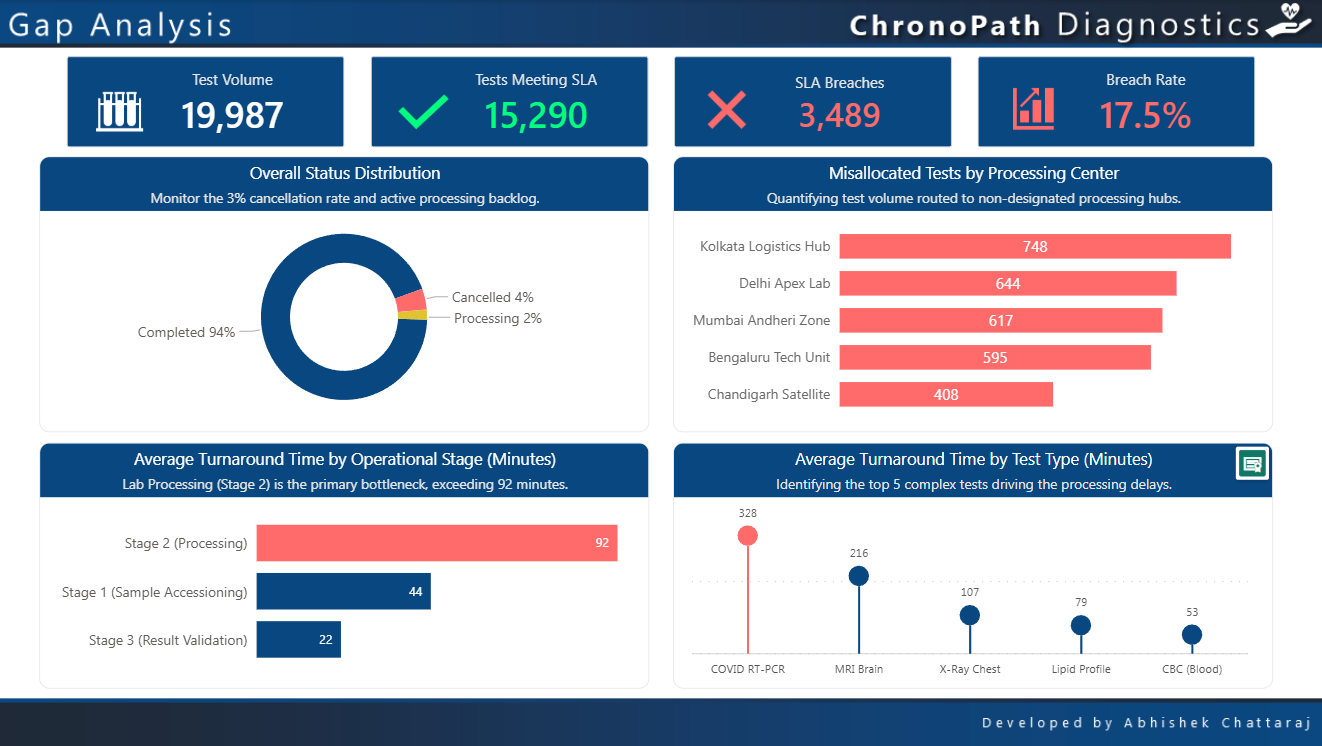

What the dashboard file says about the page in this screenshot:
{"tool":"powerbi","page":{"name":"Gap Analysis","canvas":[1280,720],"ordinal":2},"visuals":[{"type":"cardVisual","fields":{"Data":["_Measures.Total_Tests","_Measures.Tests_Under_Tat","_Measures.Tests_Outside_Tat","_Measures.% Outside TAT"]},"box":[50,37.5,1181.2,122.5],"z":0},{"type":"donutChart","title":"Overall Status Distribution","fields":{"Category":["Dim_Status.Status_Name"],"Y":["Divide(_Measures.Total Tests, ScopedEval(_Measures.Total Tests, []))"]},"box":[39.8,150.8,588.7,266.6],"z":1000},{"type":"barChart","title":"Misallocated Tests by Processing Center","fields":{"Category":["Dim_Processing_Center.Center_Name"],"Y":["CountNonNull(Fact_Test_Performance.Test_ID)"],"Series":["Fact_Test_Performance.Center_Match_Flag"]},"box":[651.5,150.8,579.1,266.6],"z":2000},{"type":"barChart","title":"Average Turnaround Time by Operational Stage (Minutes)","fields":{"Category":["Stages.Stage"],"Y":["_Measures.Stage Avg Duration (Minutes)"]},"box":[39.8,427.1,588.7,237.7],"z":3000},{"type":"lollipopChart50393786178B4137A75F3257CB590B96","title":"Average Turnaround Time by Test Type (Minutes)","fields":{"category":["Dim_TestType.TestType_Name"],"measure":["_Measures.Avg TAT by Test Type (Rounded)"]},"box":[651.5,427.1,579.1,237.7],"z":4000}]}

Visuals, with their boxes in screenshot pixels (x1, y1, x2, y2), scaled from the page's 1280x720 canvas onto the 1322x746 screenshot:
cardVisual - _Measures.Total_Tests x _Measures.Tests_Under_Tat: rect(52, 39, 1272, 166)
"Overall Status Distribution" donutChart: rect(41, 156, 649, 432)
"Misallocated Tests by Processing Center" barChart: rect(673, 156, 1271, 432)
"Average Turnaround Time by Operational Stage (Minutes)" barChart: rect(41, 443, 649, 689)
"Average Turnaround Time by Test Type (Minutes)" lollipopChart50393786178B4137A75F3257CB590B96: rect(673, 443, 1271, 689)
